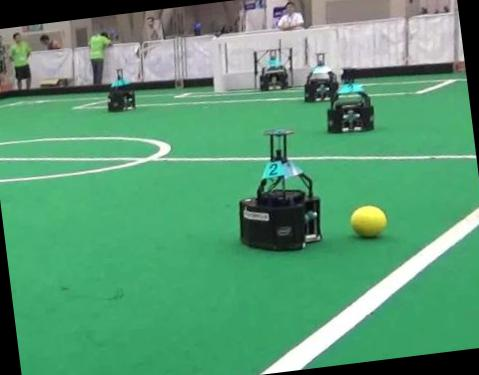ball: (350, 204, 386, 236)
goal: (210, 39, 226, 90)
robot: (239, 129, 321, 248), (327, 68, 374, 131), (254, 46, 292, 90), (304, 52, 338, 100), (107, 68, 135, 111)
